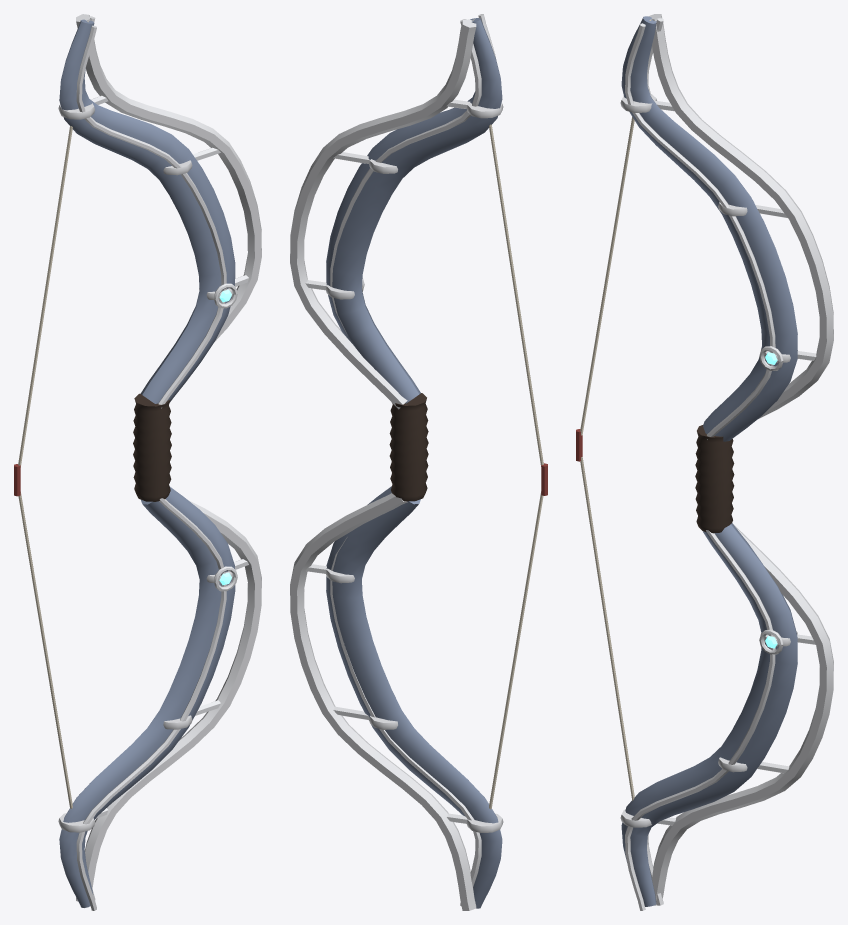
The model's file is depth_starbridge_bow.glb.
3 renders of one model, left to right at view 1: azimuth 30°, elevation 25°; view 2: azimuth 150°, elevation 25°; view 3: azimuth 330°, elevation 25°, orthographic.
Parts seen in each view (by area): view 1: depth_starbridge_bow; view 2: depth_starbridge_bow; view 3: depth_starbridge_bow.
Part boxes in pixels (box(x1,y1,x2,y2)): depth_starbridge_bow: box(14, 14, 261, 910); depth_starbridge_bow: box(290, 14, 547, 910); depth_starbridge_bow: box(576, 14, 833, 910).
Size of the model in its own units: 0.467 by 1.57 by 0.0643.
